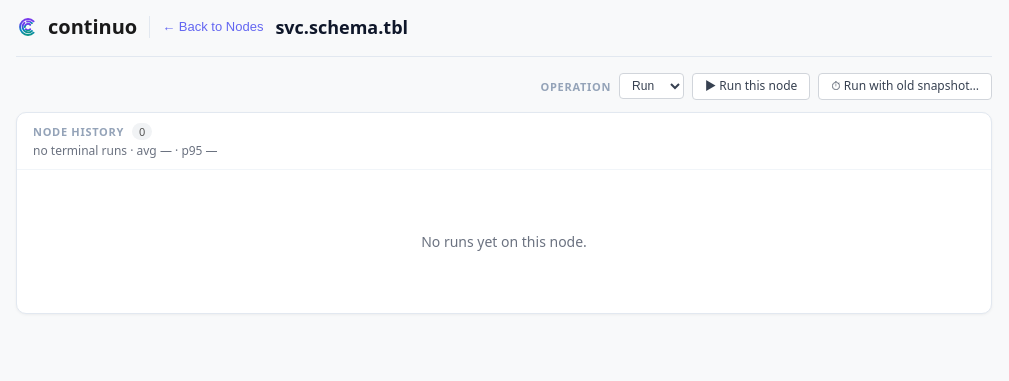
Test: NodeDetailPage › shows the build info-strip explaining combined model+test stats when operation is build
Select "Build" in the dropdown labelled "Operation" at (652, 86), box [619,73,684,99]
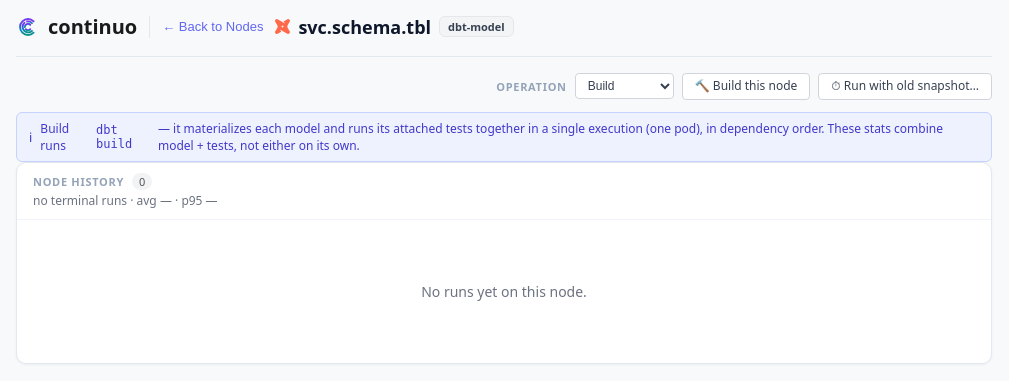
expect the text "materializes each model and runs its" is shown: met, box [158,120,943,154]
